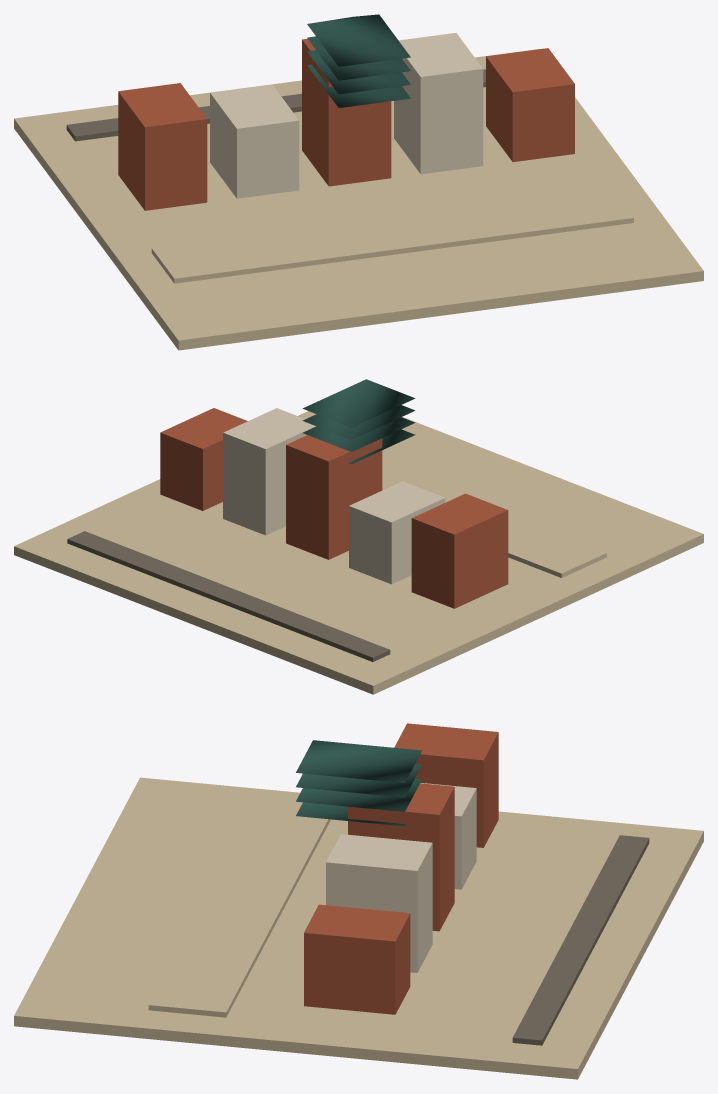
The model's file is model-medium.glb.
The picture shows the model from 3 angles, top to bottom: view 1: azimuth 30°, elevation 25°; view 2: azimuth 150°, elevation 25°; view 3: azimuth 270°, elevation 25°; orthographic projection. The views are drawn at different scales.
Parts seen in each view (by area): view 1: context_site_plinth, street_public_axis, street_facade_3, street_facade_0, street_facade_1, street_facade_4, street_facade_2, street_roof_2, street_roof_3, street_roof_0, front_scale_strip, street_roof_1; view 2: context_site_plinth, street_facade_0, street_facade_2, street_facade_3, front_scale_strip, street_facade_1, street_facade_4, street_public_axis, street_roof_2, street_roof_3, street_roof_0; view 3: context_site_plinth, street_public_axis, street_facade_4, street_facade_3, front_scale_strip, street_facade_0, street_facade_2, street_roof_2, street_facade_1, street_roof_3, street_roof_0, street_roof_1.
Part boxes in pixels (x1=…): context_site_plinth: x1=14, y1=49, x2=703, y2=350; street_public_axis: x1=151, y1=187, x2=633, y2=283; street_facade_3: x1=394, y1=33, x2=483, y2=174; street_facade_0: x1=118, y1=83, x2=207, y2=210; street_facade_1: x1=210, y1=84, x2=299, y2=198; street_facade_4: x1=486, y1=48, x2=574, y2=161; street_facade_2: x1=302, y1=38, x2=391, y2=186; street_roof_2: x1=307, y1=14, x2=410, y2=66; street_roof_3: x1=307, y1=30, x2=410, y2=80; street_roof_0: x1=307, y1=50, x2=410, y2=94; front_scale_strip: x1=66, y1=69, x2=485, y2=141; street_roof_1: x1=307, y1=64, x2=410, y2=107; context_site_plinth: x1=14, y1=411, x2=703, y2=694; street_facade_0: x1=411, y1=493, x2=508, y2=608; street_facade_2: x1=286, y1=435, x2=382, y2=559; street_facade_3: x1=223, y1=408, x2=315, y2=535; front_scale_strip: x1=67, y1=531, x2=390, y2=661; street_facade_1: x1=349, y1=481, x2=445, y2=584; street_facade_4: x1=160, y1=408, x2=247, y2=510; street_public_axis: x1=382, y1=465, x2=606, y2=577; street_roof_2: x1=302, y1=379, x2=415, y2=427; street_roof_3: x1=302, y1=405, x2=415, y2=439; street_roof_0: x1=303, y1=417, x2=415, y2=451; context_site_plinth: x1=14, y1=777, x2=703, y2=1079; street_public_axis: x1=148, y1=796, x2=330, y2=1017; street_facade_4: x1=304, y1=904, x2=410, y2=1014; street_facade_3: x1=326, y1=834, x2=432, y2=972; front_scale_strip: x1=512, y1=835, x2=649, y2=1045; street_facade_0: x1=394, y1=723, x2=498, y2=847; street_facade_2: x1=348, y1=783, x2=454, y2=931; street_roof_2: x1=296, y1=740, x2=421, y2=783; street_facade_1: x1=420, y1=783, x2=476, y2=889; street_roof_3: x1=296, y1=764, x2=421, y2=797; street_roof_0: x1=296, y1=778, x2=421, y2=811; street_roof_1: x1=296, y1=802, x2=405, y2=826.
Size of the model in its own units: 9.55 by 2.89 by 9.55.
